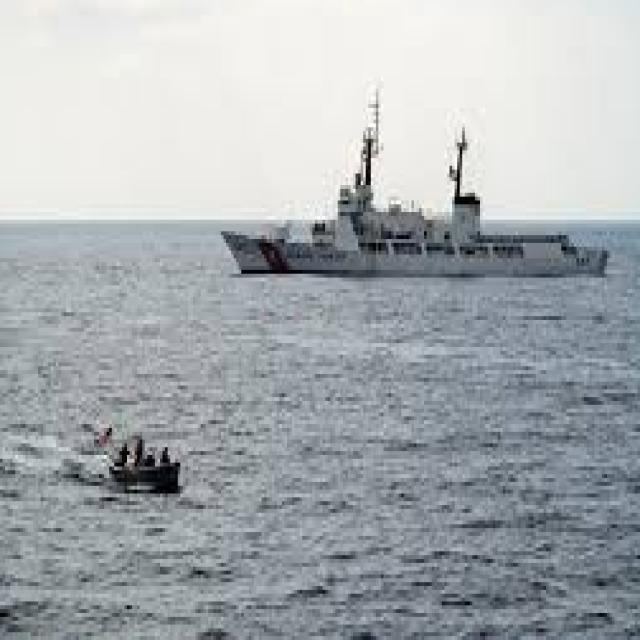navalvessels: (211, 90, 609, 294)
